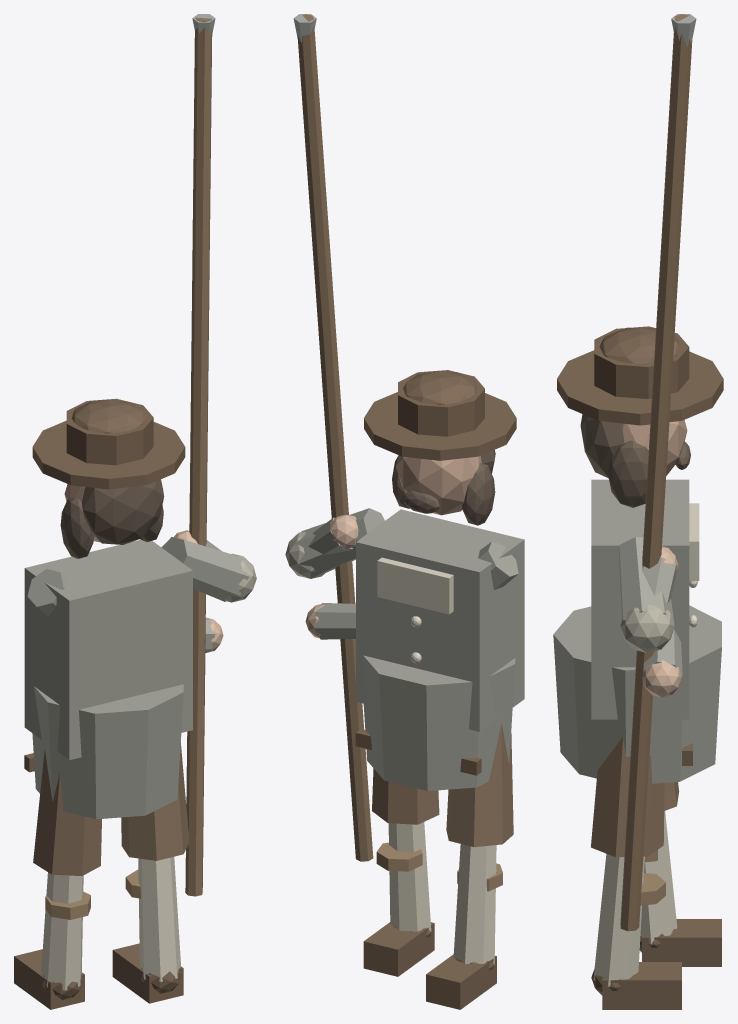
Rendered from cameronian_hodden_pikeman.glb.
The picture shows the model from 3 angles, left to right: view 1: azimuth 30°, elevation 25°; view 2: azimuth 150°, elevation 25°; view 3: azimuth 270°, elevation 25°; orthographic projection. The views are drawn at different scales.
Visible parts, largest first — view 1: hodden, leather, wood, linen, brown, hair, leather_lt, hodden_lt; view 2: hodden, leather, wood, linen, brown, skin, hair, leather_lt, skin_light, hodden_lt; view 3: hodden, leather, wood, linen, brown, hair, hodden_lt, skin_light, skin, leather_lt, steel.
Part boxes in pixels (x1,y1,x2,y2): hodden: (24, 537, 249, 819); leather: (14, 398, 185, 1009); wood: (185, 17, 212, 896); linen: (41, 857, 180, 990); brown: (33, 743, 189, 875); hair: (60, 479, 164, 558); leather_lt: (45, 869, 140, 919); hodden_lt: (224, 553, 256, 602); hodden: (295, 508, 524, 790); leather: (355, 370, 516, 1009); wood: (297, 14, 373, 861); linen: (377, 557, 496, 964); brown: (372, 723, 513, 846); skin: (396, 455, 481, 515); hair: (392, 450, 495, 525); leather_lt: (376, 842, 502, 891); skin_light: (305, 514, 358, 638); hodden_lt: (285, 532, 325, 578); hodden: (553, 479, 721, 783); leather: (557, 326, 723, 1009); wood: (620, 14, 692, 931); linen: (593, 503, 699, 986); brown: (591, 737, 679, 857); hair: (580, 414, 690, 507); hodden_lt: (620, 605, 674, 652); skin_light: (642, 546, 681, 697); skin: (622, 420, 687, 475); leather_lt: (640, 850, 665, 905); steel: (671, 14, 696, 46).
Bounding box in the file's own units: 0.6919 × 2.77 × 0.4183.
